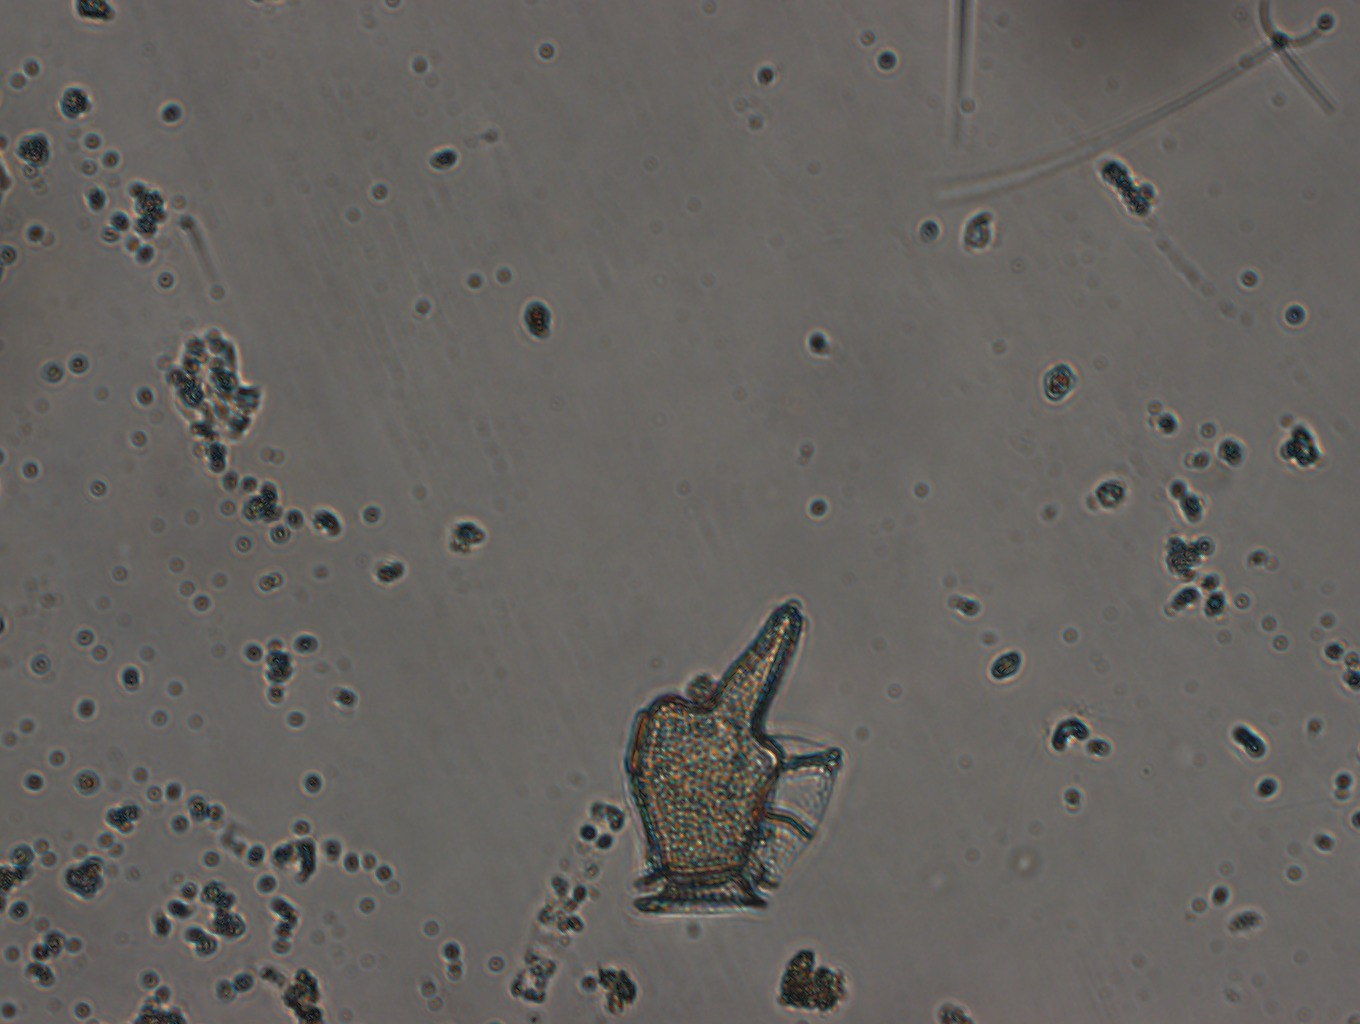dinophysis caudata: (616, 597, 849, 915)
